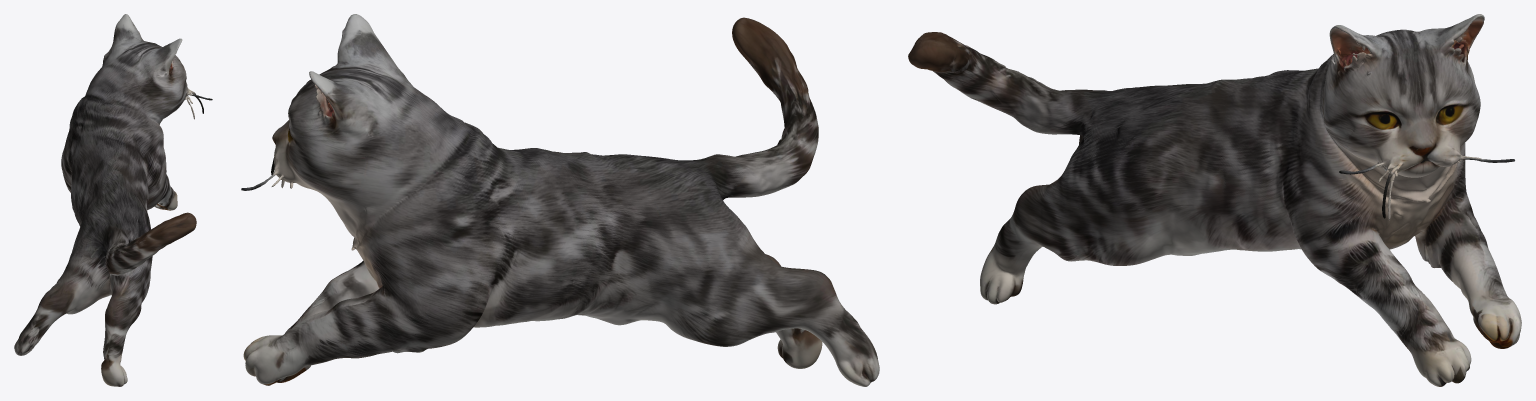
The model's file is cat_jump.glb.
3 views of the same model, side by side, from view 1: azimuth 30°, elevation 25°; view 2: azimuth 150°, elevation 25°; view 3: azimuth 270°, elevation 25° (orthographic). The views are drawn at different scales.
Parts seen in each view (by area): view 1: tripo_node_1dacfa67-4c6f-4b02-a732-c1532dd80d53; view 2: tripo_node_1dacfa67-4c6f-4b02-a732-c1532dd80d53; view 3: tripo_node_1dacfa67-4c6f-4b02-a732-c1532dd80d53.
Part boxes in pixels (x1,y1,x2,y2): tripo_node_1dacfa67-4c6f-4b02-a732-c1532dd80d53: (14,14,212,386); tripo_node_1dacfa67-4c6f-4b02-a732-c1532dd80d53: (241,14,879,386); tripo_node_1dacfa67-4c6f-4b02-a732-c1532dd80d53: (908,14,1521,386).
Bounding box in the file's own units: 0.8934 × 0.7421 × 1.
1 material, 1 textured.
